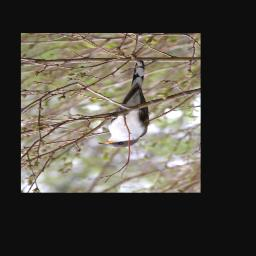Cuckoo: (97, 61, 151, 149)
